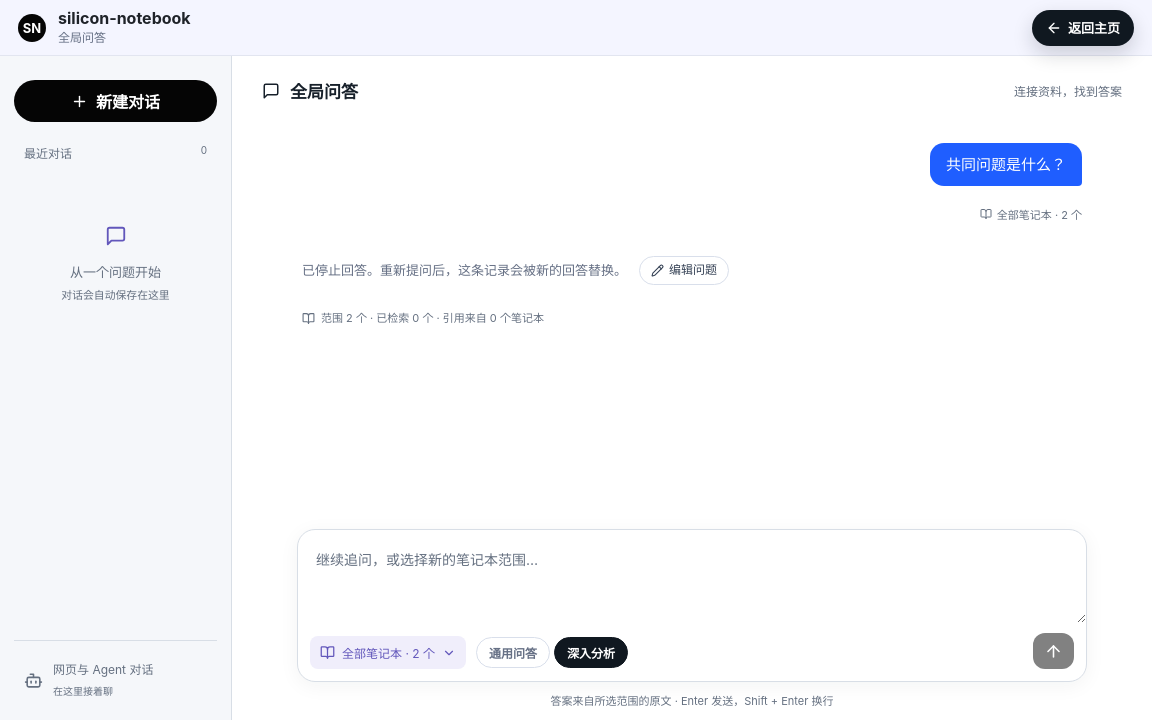
it: scope narrowing explains lost follow-up context beside the composer and restores cleanly
This screenshot has width=1152, height=720.
expect the text box named "输入问题" is enabled: met, box [298, 530, 1086, 623]
expect the text "先前涉及其他笔记本的提问不会用于本次追问" is not shown: met
Click the button "全部笔记本 · 2 个": (388, 652) [310, 636, 466, 669]
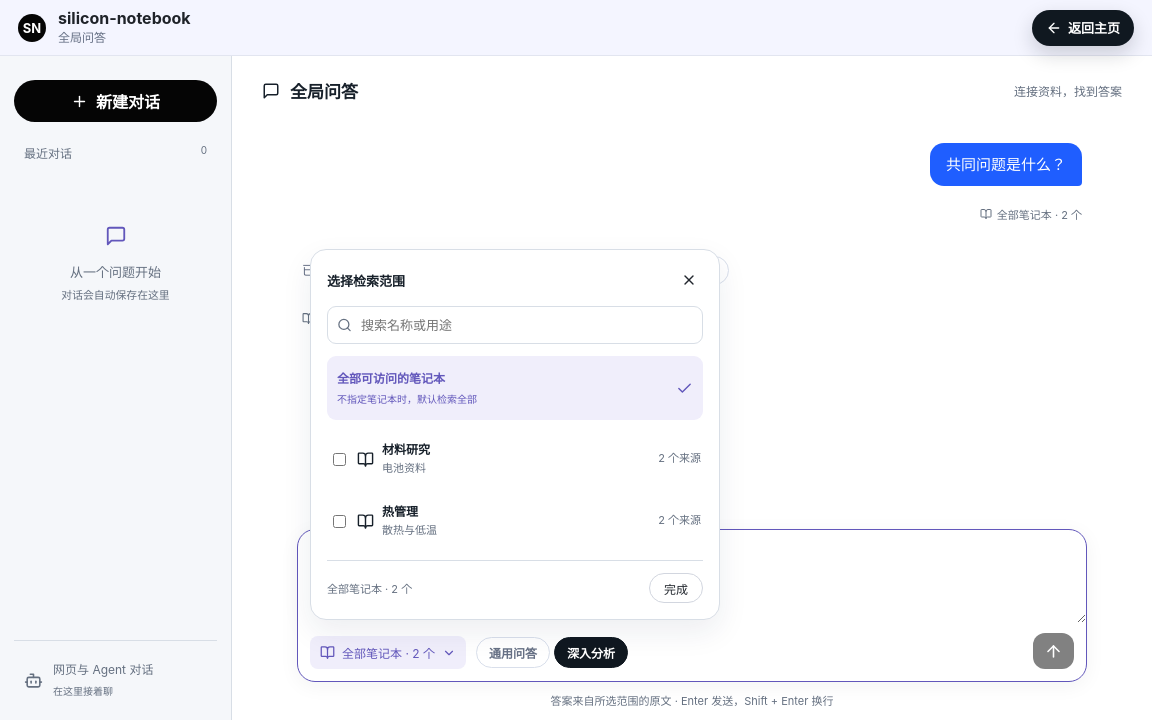
Click the checkbox labelled "材料研究 电池资料 2 个来源": (340, 459) [333, 452, 346, 466]
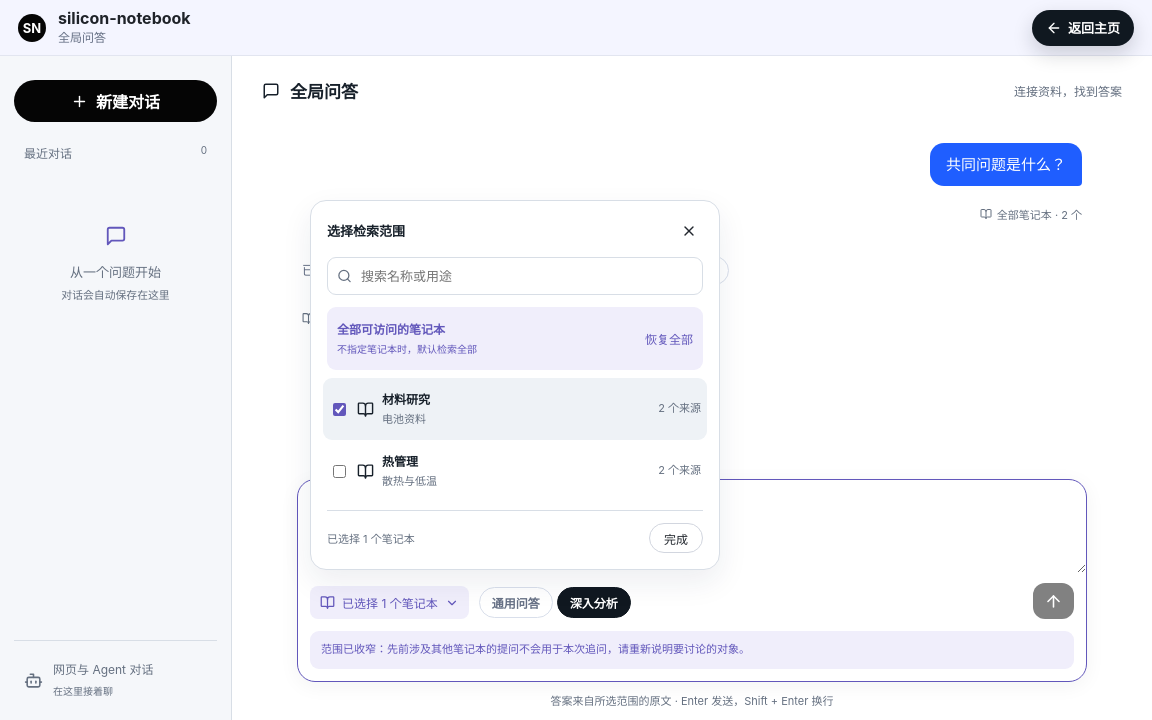
expect the text "先前涉及其他笔记本的提问不会用于本次追问" is shown: met, box [321, 642, 750, 656]
Click the checkbox labelled "热管理 散热与低温 2 个来源": (340, 471) [333, 465, 346, 478]
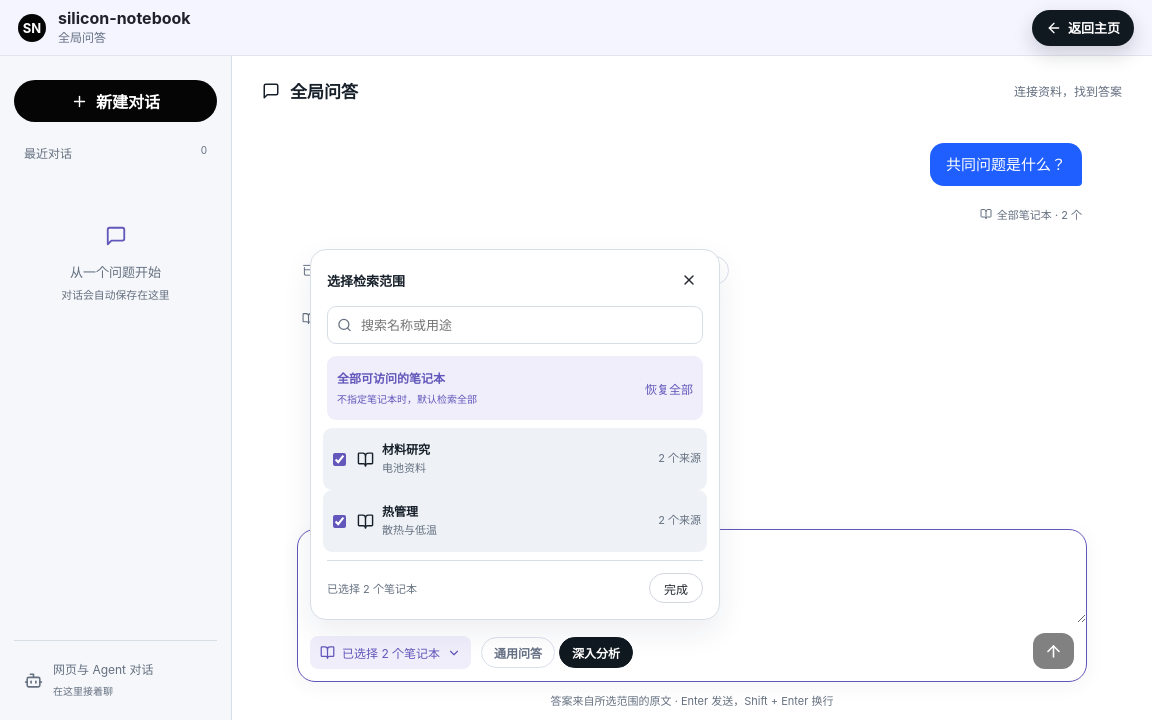
expect the text "先前涉及其他笔记本的提问不会用于本次追问" is gone: met
